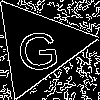G: (13, 21, 62, 72)
